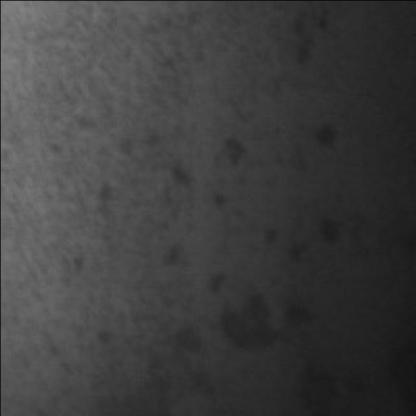pitted_surface: (27, 6, 229, 393), (160, 102, 281, 376)
